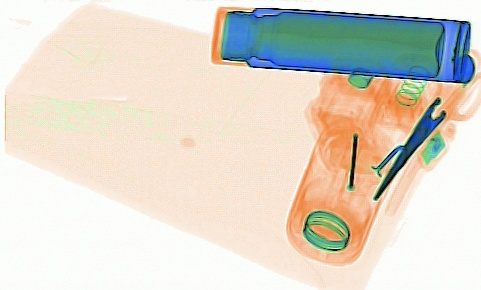scissors: (371, 49, 477, 202)
